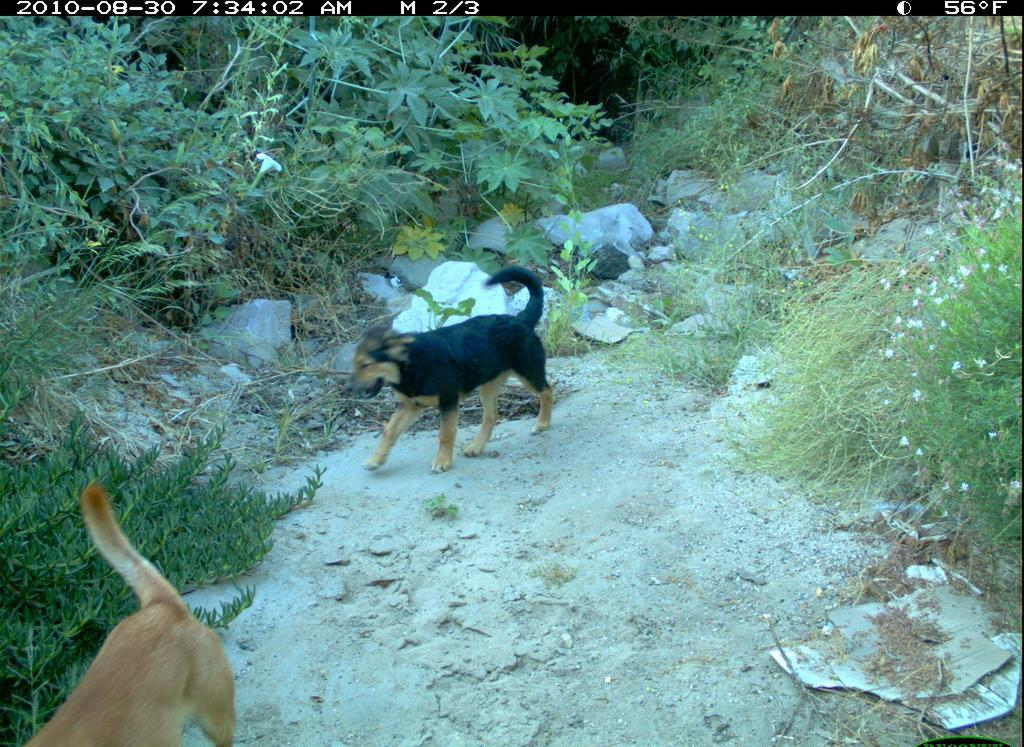dog: (18, 470, 248, 747), (336, 264, 578, 482)
